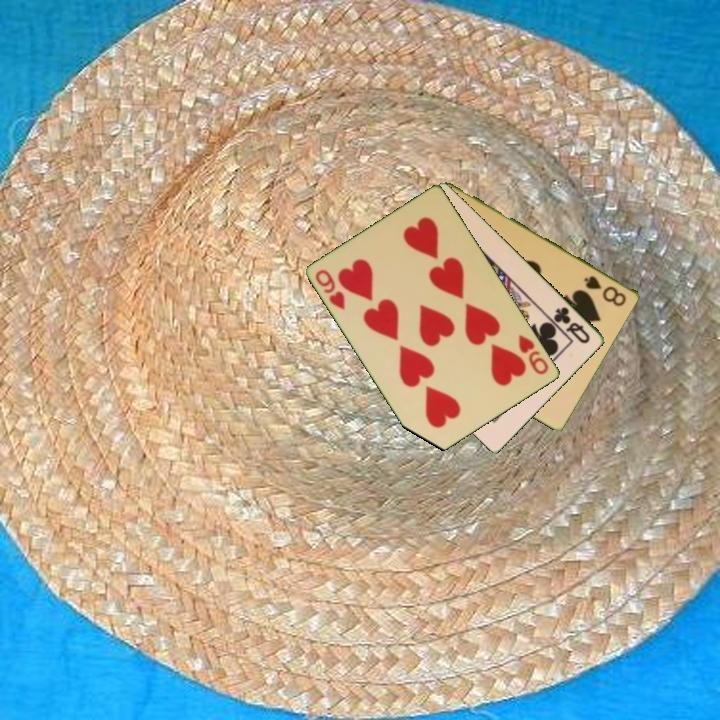8s: (581, 272, 630, 309)
9h: (515, 331, 552, 378), (312, 266, 349, 313)
Qc: (550, 303, 593, 347)
